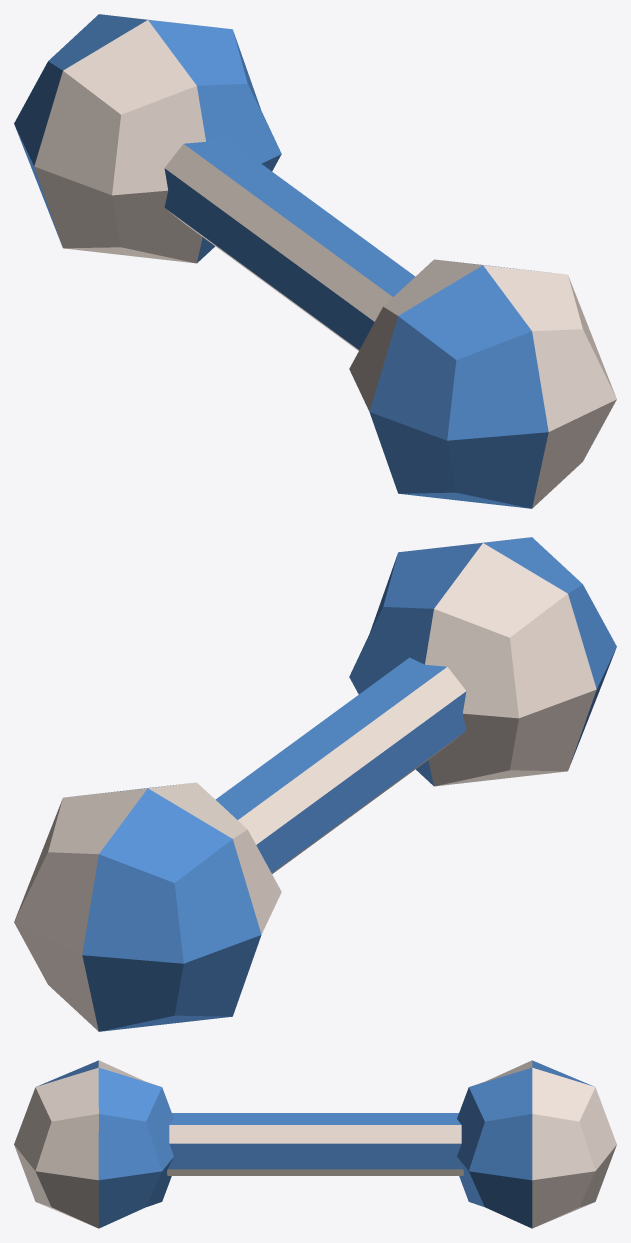
File: Toy_1.fbx
The picture shows the model from 3 angles, top to bottom: view 1: azimuth 30°, elevation 25°; view 2: azimuth 150°, elevation 25°; view 3: azimuth 270°, elevation 25°; orthographic projection. The views are drawn at different scales.
Parts seen in each view (by area): view 1: Toy_1; view 2: Toy_1; view 3: Toy_1.
Part boxes in pixels (left/top/right/bottom): Toy_1: left=14, top=14, right=616, bottom=508; Toy_1: left=14, top=537, right=616, bottom=1031; Toy_1: left=14, top=1060, right=616, bottom=1228.
Bounding box in the file's own units: 12.42 × 44.13 × 12.42.
